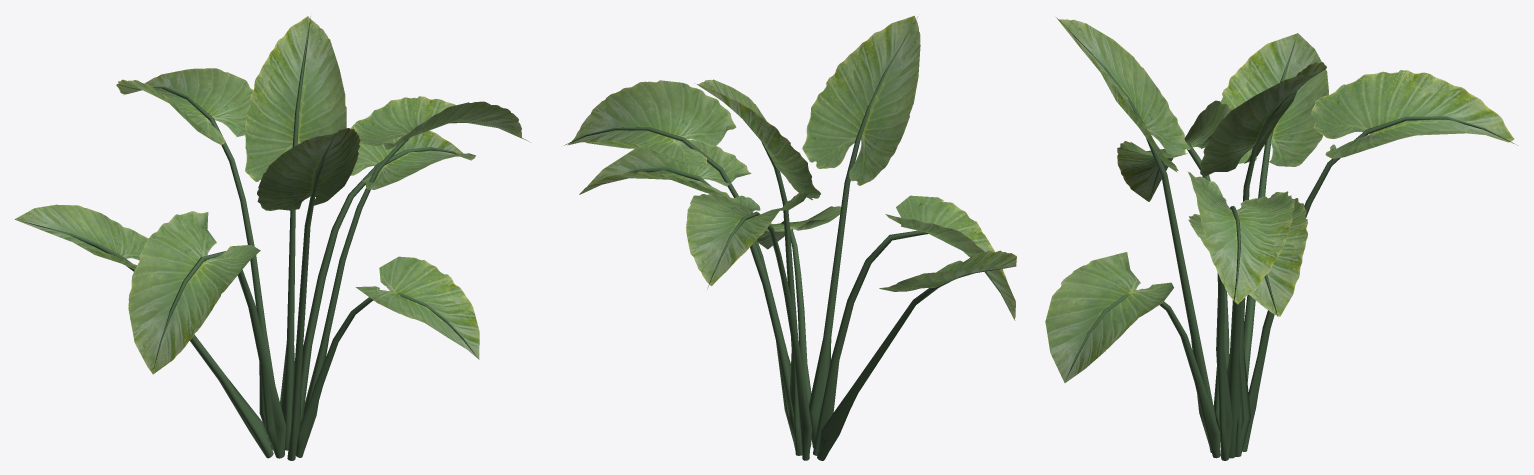
The model's file is elephant.glb.
The picture shows the model from 3 angles, left to right: view 1: azimuth 30°, elevation 25°; view 2: azimuth 150°, elevation 25°; view 3: azimuth 270°, elevation 25°; orthographic projection. The views are drawn at different scales.
Parts seen in each view (by area): view 1: defaultMaterial; view 2: defaultMaterial; view 3: defaultMaterial.
Boxes of the visible parts, <box> form: defaultMaterial: <box>14,16,530,460</box>; defaultMaterial: <box>564,15,1016,460</box>; defaultMaterial: <box>1045,17,1517,460</box>.
Bounding box in the file's own units: 2 × 1.53 × 1.55.
1 material, 1 textured.
